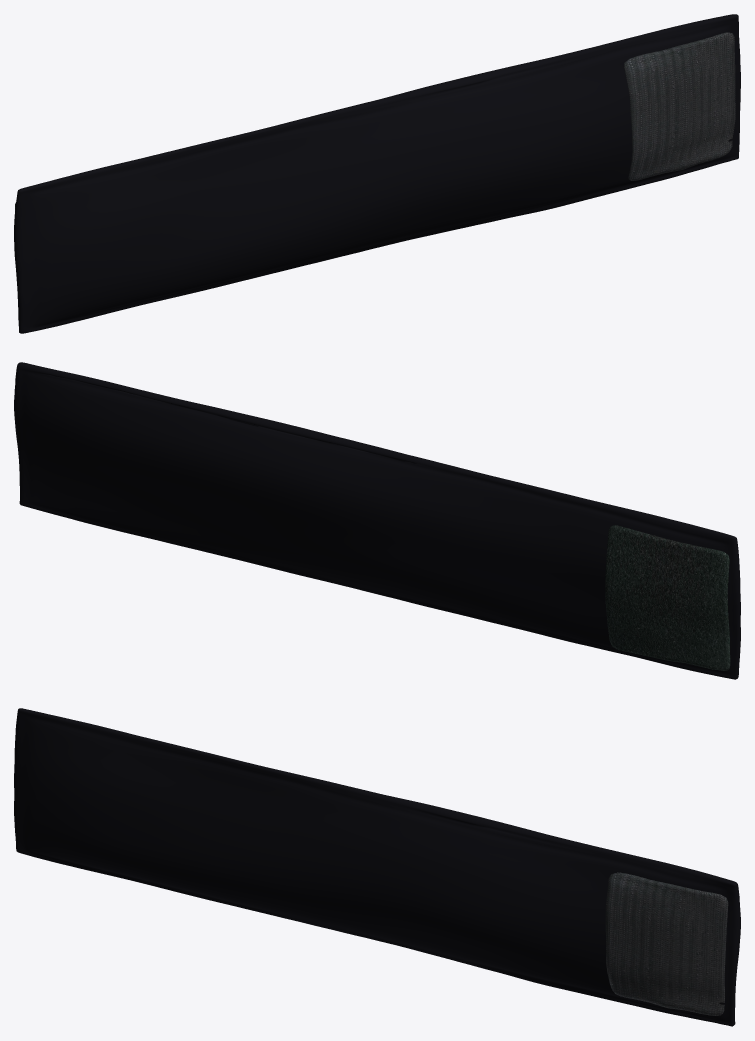
The model's file is tourniquet_swell.FBX.
3 views of the same model, one above another, from view 1: azimuth 30°, elevation 25°; view 2: azimuth 150°, elevation 25°; view 3: azimuth 330°, elevation 25° (orthographic).
Parts seen in each view (by area): view 1: Main003; view 2: Main003; view 3: Main003.
Boxes of the visible parts, <box> form: Main003: <box>14,14,740,333</box>; Main003: <box>14,362,740,679</box>; Main003: <box>14,708,740,1026</box>.
Bounding box in the file's own units: 29.31 × 5.73 × 2.22.
Materials: 3 (2 with a texture image).
